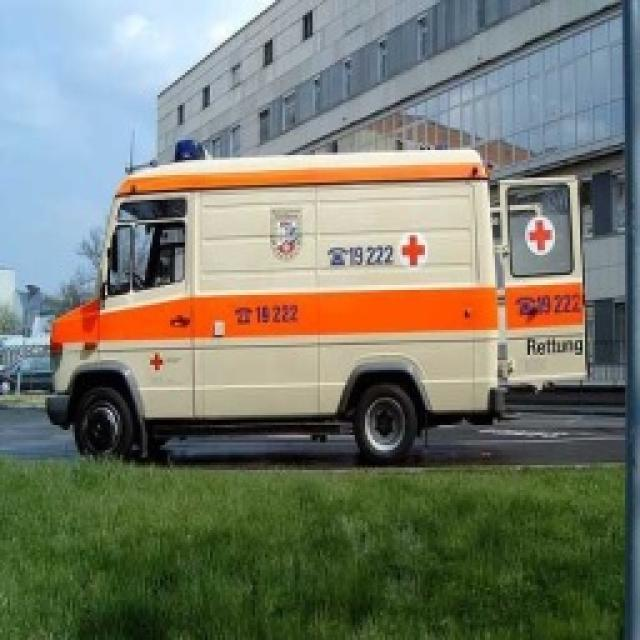emergency-vehicle: (48, 157, 590, 466)
